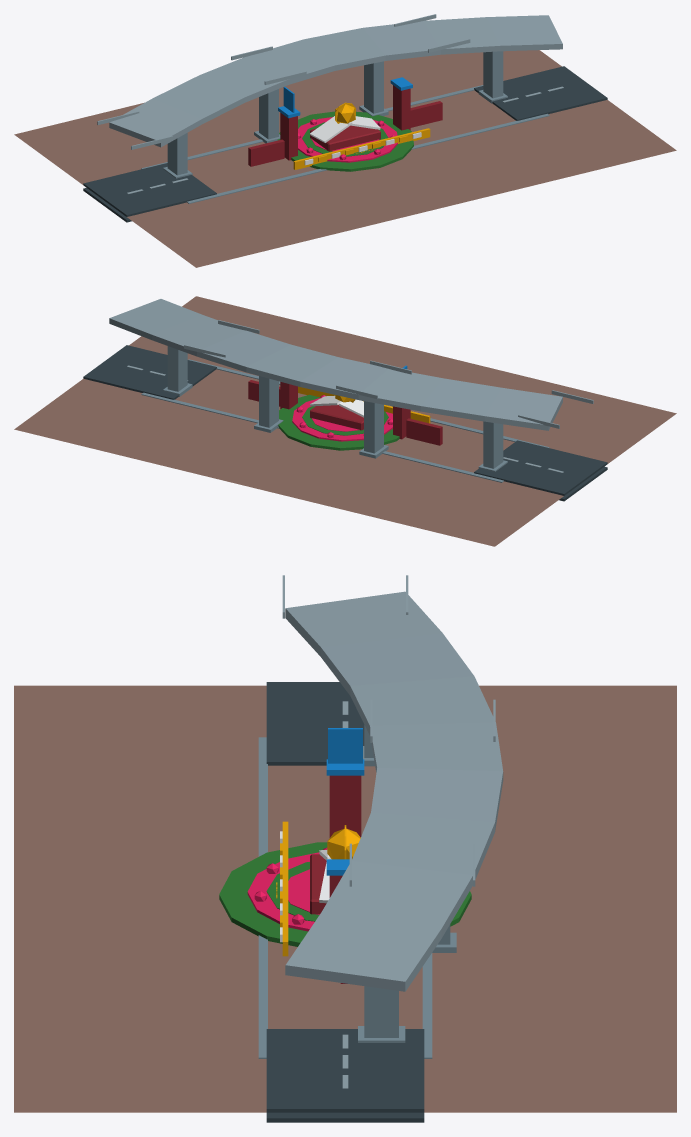
File: cong_chinh.glb
The picture shows the model from 3 angles, top to bottom: view 1: azimuth 30°, elevation 25°; view 2: azimuth 150°, elevation 25°; view 3: azimuth 270°, elevation 25°; orthographic projection. The views are drawn at different scales.
Parts seen in each view (by area): view 1: Cong_Ground, Cong_OverpassDeck, Cong_Approach_-1, Cong_Approach_1, Cong_Island, Cong_UnderWall_-1, Cong_Pier_5, Cong_FlowerOuter, Cong_MonumentBase, Cong_Pier_7, Cong_Pier_3, Cong_NamePlaque (+8 smaller); view 2: Cong_Ground, Cong_OverpassDeck, Cong_Approach_-1, Cong_Approach_1, Cong_Island, Cong_Pier_3, Cong_Pier_5, Cong_UnderWall_1, Cong_Pier_1, Cong_MonumentBase, Cong_Pier_7, Cong_FlowerOuter (+6 smaller); view 3: Cong_Ground, Cong_OverpassDeck, Cong_Approach_1, Cong_Approach_-1, Cong_Island, Cong_UnderWall_-1, Cong_Pillar_-1, Cong_UnderpassChannel, Cong_Pier_7, Cong_FlowerOuter, Cong_FactionBanner, Cong_UnderWall_1 (+2 smaller).
Boxes of the visible parts, left/top/right/bottom form: Cong_Ground: left=14, top=50, right=676, bottom=267; Cong_OverpassDeck: left=109, top=15, right=562, bottom=147; Cong_Approach_-1: left=83, top=163, right=216, bottom=216; Cong_Approach_1: left=474, top=66, right=607, bottom=120; Cong_Island: left=277, top=111, right=413, bottom=171; Cong_UnderWall_-1: left=187, top=113, right=549, bottom=203; Cong_Pier_5: left=364, top=61, right=383, bottom=113; Cong_FlowerOuter: left=298, top=117, right=397, bottom=162; Cong_MonumentBase: left=310, top=125, right=380, bottom=151; Cong_Pier_7: left=483, top=51, right=503, bottom=98; Cong_Pier_3: left=259, top=89, right=278, bottom=139; Cong_NamePlaque: left=293, top=128, right=430, bottom=169; Cong_Ground: left=14, top=296, right=676, bottom=546; Cong_OverpassDeck: left=109, top=299, right=562, bottom=430; Cong_Approach_-1: left=474, top=440, right=607, bottom=495; Cong_Approach_1: left=83, top=345, right=216, bottom=399; Cong_Island: left=278, top=394, right=399, bottom=450; Cong_Pier_3: left=364, top=401, right=383, bottom=453; Cong_Pier_5: left=259, top=376, right=278, bottom=427; Cong_UnderWall_1: left=141, top=392, right=503, bottom=482; Cong_Pier_1: left=483, top=421, right=503, bottom=468; Cong_MonumentBase: left=310, top=404, right=363, bottom=430; Cong_Pier_7: left=167, top=346, right=187, bottom=391; Cong_FlowerOuter: left=292, top=398, right=392, bottom=441; Cong_Ground: left=14, top=685, right=676, bottom=1112; Cong_OverpassDeck: left=285, top=591, right=503, bottom=991; Cong_Approach_1: left=266, top=1029, right=424, bottom=1112; Cong_Approach_-1: left=266, top=682, right=364, bottom=765; Cong_Island: left=219, top=842, right=471, bottom=946; Cong_UnderWall_-1: left=258, top=737, right=267, bottom=1058; Cong_Pillar_-1: left=329, top=775, right=361, bottom=837; Cong_UnderpassChannel: left=266, top=1112, right=424, bottom=1122; Cong_Pier_7: left=364, top=986, right=398, bottom=1037; Cong_FlowerOuter: left=247, top=852, right=319, bottom=931; Cong_FactionBanner: left=328, top=728, right=362, bottom=763; Cong_UnderWall_1: left=422, top=953, right=432, bottom=1058.
Bounding box in the file's own units: 64 × 11.48 × 42.
